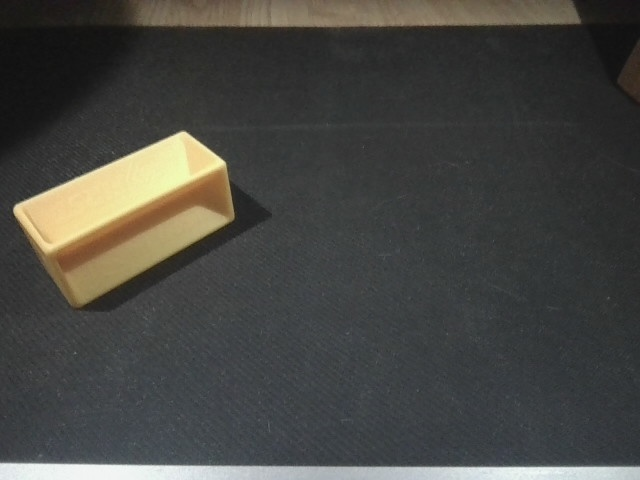YellowSample: (7, 129, 242, 323)
